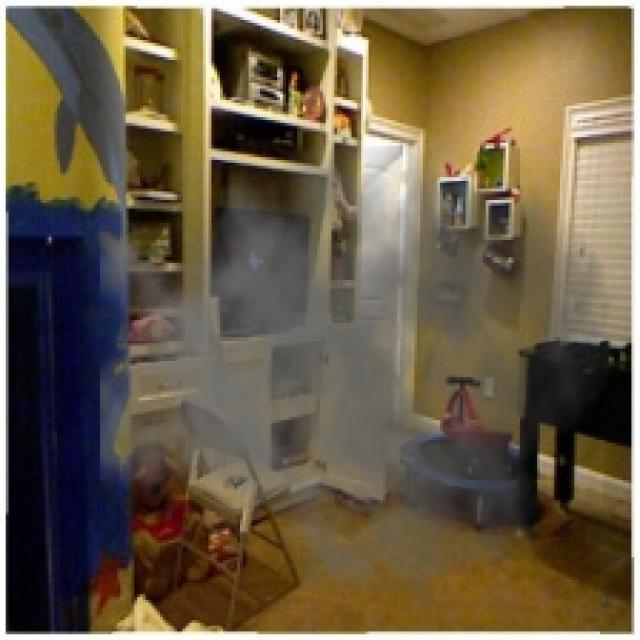Smoke: (100, 88, 614, 618)
